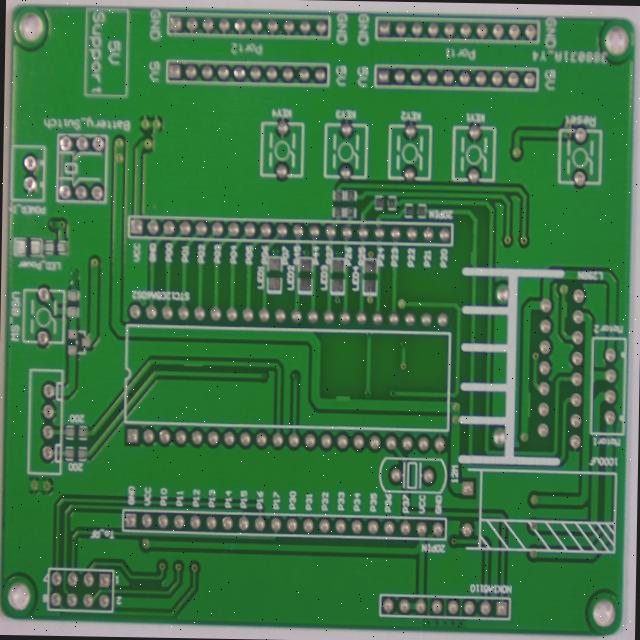spur: (191, 405, 225, 429), (566, 443, 579, 485), (605, 341, 619, 367), (360, 449, 382, 465), (505, 284, 518, 307)
